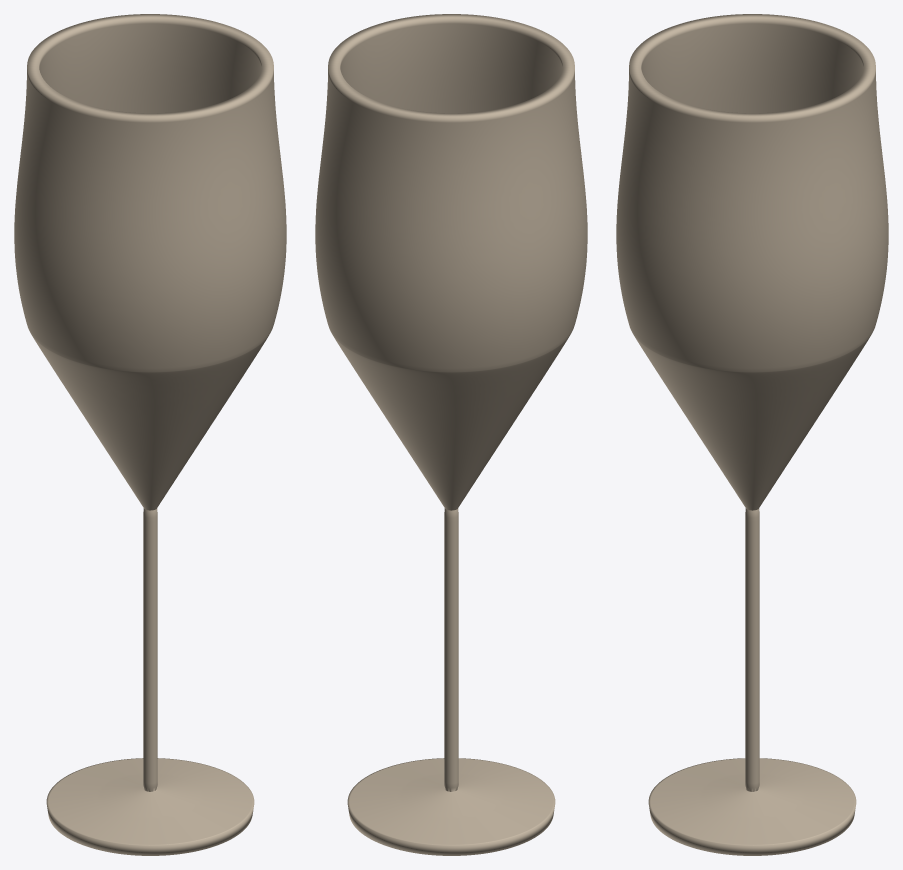
The model's file is 3dcodebench_Wineglass_seed0.glb.
The picture shows the model from 3 angles, left to right: view 1: azimuth 30°, elevation 25°; view 2: azimuth 150°, elevation 25°; view 3: azimuth 270°, elevation 25°; orthographic projection.
Parts seen in each view (by area): view 1: object; view 2: object; view 3: object.
Boxes of the visible parts, <box> form: object: <box>14,14,286,855</box>; object: <box>315,14,587,855</box>; object: <box>616,14,888,855</box>.
Bounding box in the file's own units: 0.1011 × 0.3058 × 0.1011.
